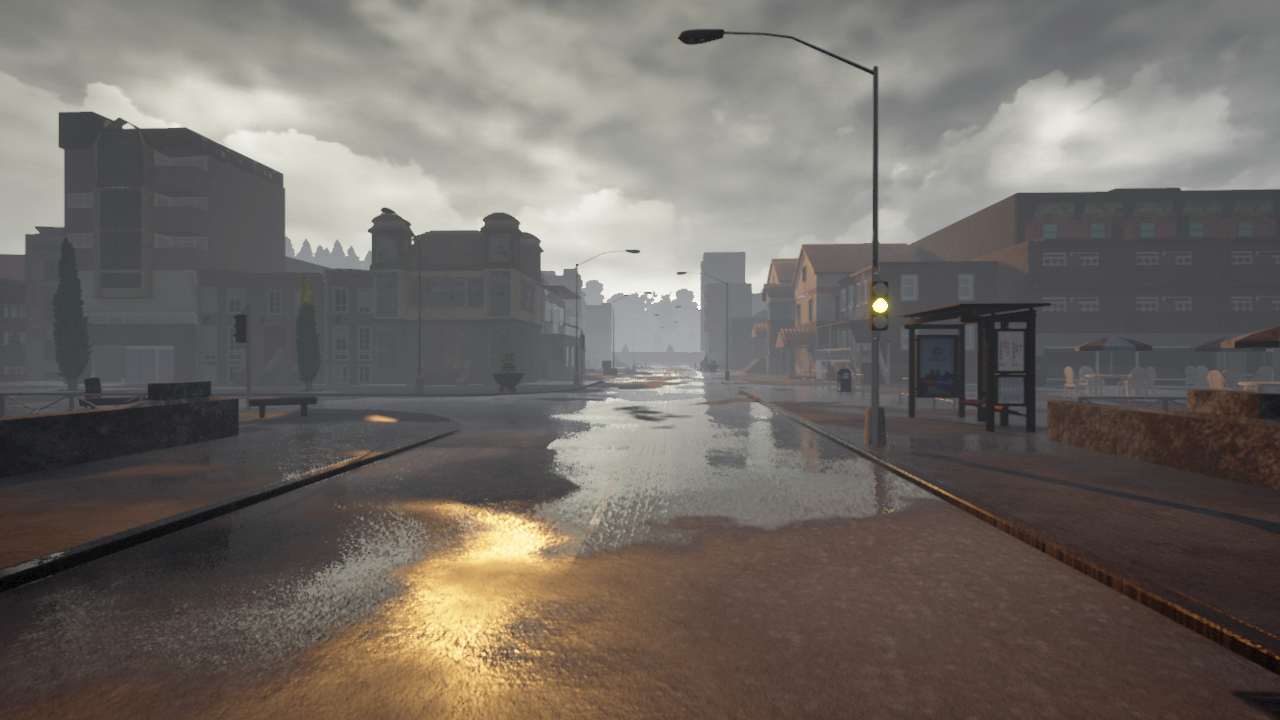yellow: (870, 281, 890, 331)
